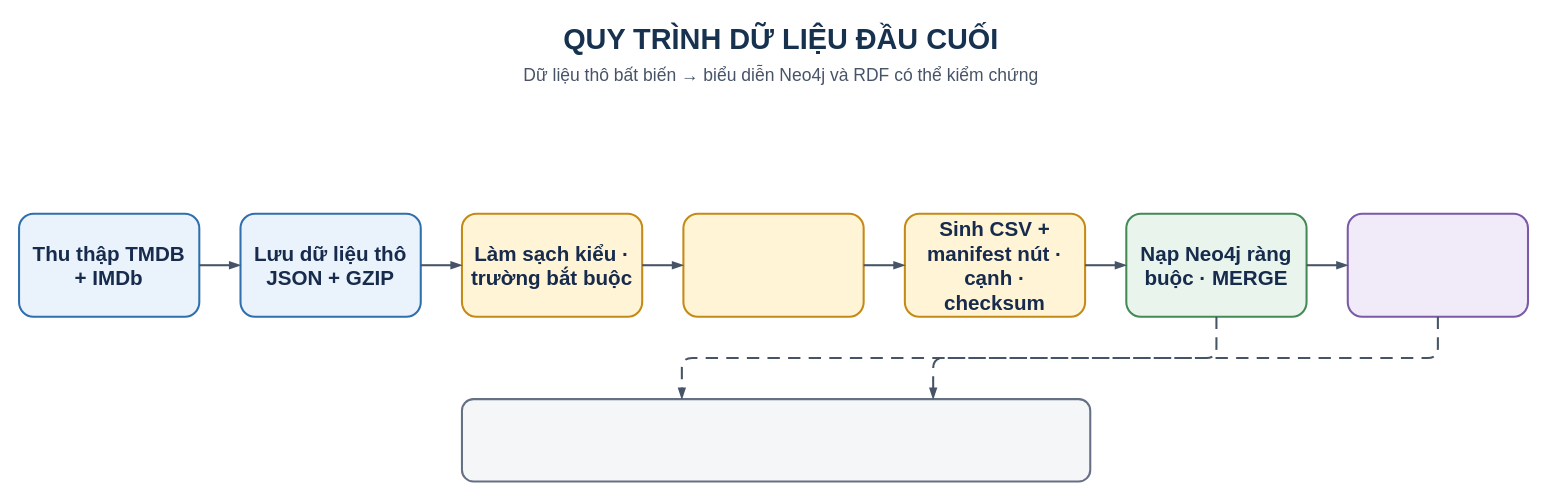
The diagram is 1560 pixels wide and 500 high, and some of its shapes have lost their labels. Here are the shapes that lost their labels. From the top down, the centre of each, then its label:
At point 773,264: "Phân giải thực thể ID chính xác → gần đúng".
At point 1437,264: "Xuất RDF OWL/SPARQL".
At point 775,440: "KIỂM TRA SAU XỬ LÝ chất lượng dữ liệu · tính lũy đẳng · số liệu thực nghiệm".
